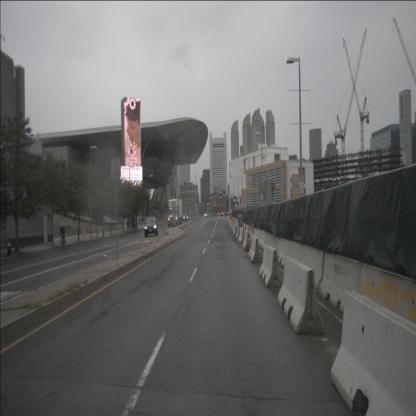barrier: (330, 290, 416, 415), (357, 261, 415, 348), (278, 254, 326, 334), (318, 251, 362, 316), (298, 243, 326, 293), (259, 244, 284, 288), (286, 240, 302, 272), (248, 235, 262, 264), (262, 233, 278, 258), (276, 236, 288, 268), (241, 230, 250, 250), (258, 228, 266, 249), (253, 228, 262, 246), (237, 227, 245, 244), (235, 225, 240, 240), (233, 224, 237, 235), (232, 222, 235, 233), (230, 222, 234, 229), (231, 222, 234, 230), (230, 219, 232, 229)
cone: (247, 225, 252, 252), (251, 222, 255, 252), (244, 221, 247, 244), (242, 224, 245, 246)
